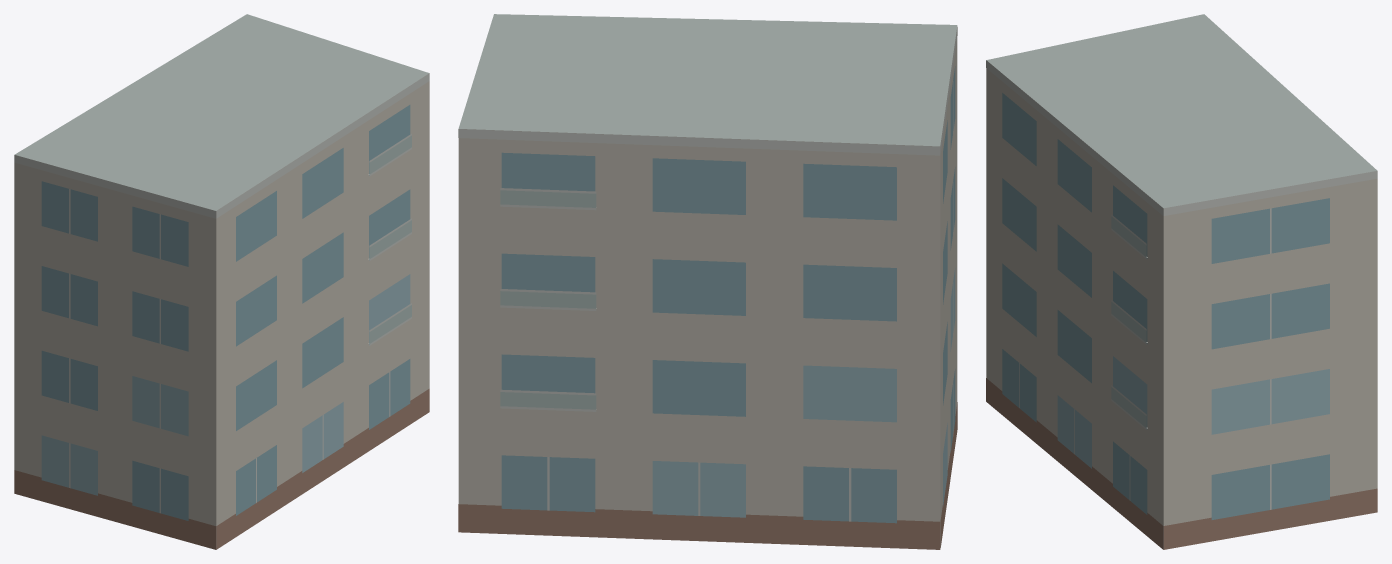
The model's file is survey-upis-32707274.glb.
3 views of the same model, side by side, from view 1: azimuth 30°, elevation 25°; view 2: azimuth 150°, elevation 25°; view 3: azimuth 270°, elevation 25° (orthographic). The views are drawn at different scales.
Parts seen in each view (by area): view 1: survey-upis-32707274.tmp; view 2: survey-upis-32707274.tmp; view 3: survey-upis-32707274.tmp.
Part boxes in pixels (bbox=[...]): survey-upis-32707274.tmp: bbox=[14, 14, 429, 549]; survey-upis-32707274.tmp: bbox=[458, 14, 957, 549]; survey-upis-32707274.tmp: bbox=[986, 14, 1377, 549].
Bounding box in the file's own units: 12.94 × 10.6 × 11.02.
